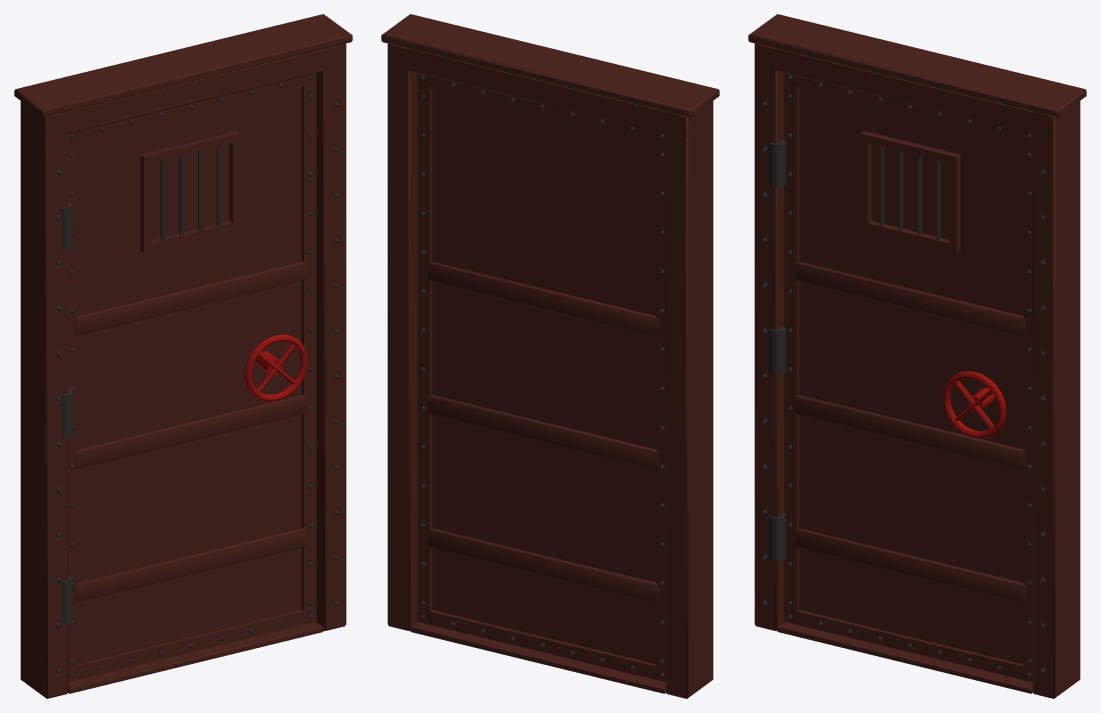
Rendered from BoilerDoor.fbx.
3 views of the same model, side by side, from view 1: azimuth 30°, elevation 25°; view 2: azimuth 150°, elevation 25°; view 3: azimuth 330°, elevation 25° (orthographic).
Parts seen in each view (by area): view 1: BoilerDoor_Leaf, BoilerDoor_Body, BoilerDoor_Leaf_Handle, BoilerDoor_Leaf_Grille, BoilerDoor_Rivets, BoilerDoor_Hinges; view 2: BoilerDoor_Leaf, BoilerDoor_Body, BoilerDoor_Rivets; view 3: BoilerDoor_Leaf, BoilerDoor_Body, BoilerDoor_Hinges, BoilerDoor_Leaf_Handle, BoilerDoor_Leaf_Grille, BoilerDoor_Rivets.
Part boxes in pixels (x1,y1,x2,y2): BoilerDoor_Leaf: [68, 73, 316, 681]; BoilerDoor_Body: [14, 14, 352, 698]; BoilerDoor_Leaf_Handle: [244, 334, 307, 401]; BoilerDoor_Leaf_Grille: [160, 146, 221, 239]; BoilerDoor_Rivets: [55, 75, 338, 677]; BoilerDoor_Hinges: [61, 202, 72, 624]; BoilerDoor_Leaf: [417, 73, 665, 681]; BoilerDoor_Body: [381, 14, 719, 698]; BoilerDoor_Rivets: [420, 75, 664, 677]; BoilerDoor_Leaf: [784, 73, 1032, 681]; BoilerDoor_Body: [748, 14, 1086, 698]; BoilerDoor_Hinges: [769, 139, 785, 560]; BoilerDoor_Leaf_Handle: [943, 371, 1006, 438]; BoilerDoor_Leaf_Grille: [879, 146, 940, 239]; BoilerDoor_Rivets: [762, 75, 1045, 677].
Bounding box in the file's own units: 1.22 × 2.22 × 0.233.
